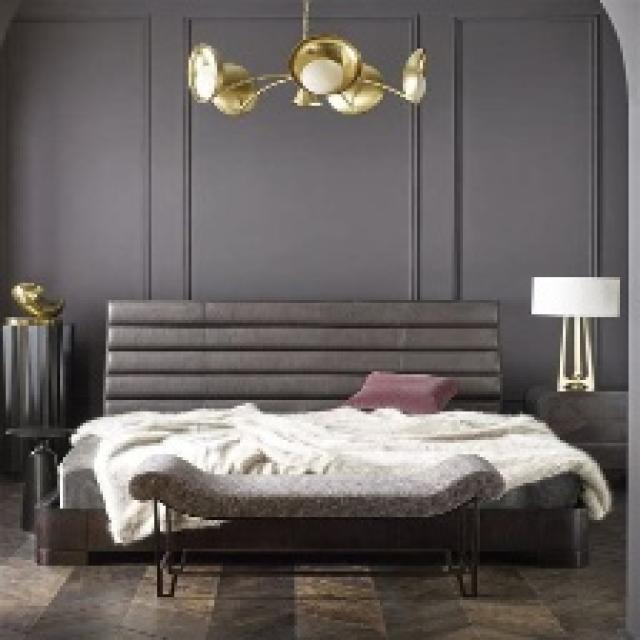Bed: (29, 297, 612, 589)
